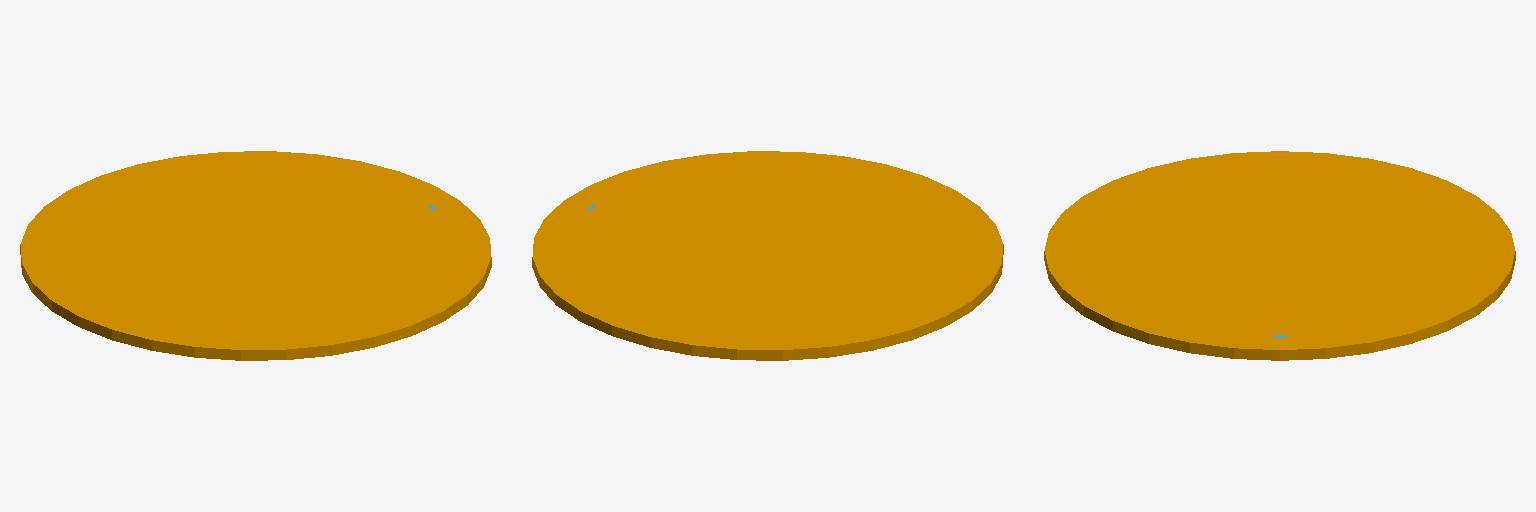
URDF robot description (plate0.urdf):
<?xml version="1.0" ?>
<robot name="plate0.urdf">
  <link name="baseLink">
    <contact>
      <lateral_friction value="200.0"/>
      <inertia_scaling value="3.0"/>
    </contact>
    <inertial>
      <origin rpy="0 0 0" xyz="0 0 0"/>
      <mass value=".5"/>
      <inertia ixx="1" ixy="0" ixz="0" iyy="1" iyz="0" izz="1"/>
    </inertial>
    <visual>
      <origin rpy="0 0 0" xyz="0 0 0"/>
      <geometry>
        <cylinder radius="0.2" length="0.01"/>
      </geometry>
    </visual>
    <collision>
      <origin rpy="0 0 0" xyz="0 0 0"/>
      <geometry>
        <cylinder radius="0.2" length="0.01"/>
      </geometry>
    </collision>

    <visual>
      <origin rpy="0 0 0" xyz="0 0 -0.01"/>
      <geometry>
        <cylinder radius="0.1" length="0.01"/>
      </geometry>
    </visual>
    <collision>
      <origin rpy="0 0 0" xyz="0 0 -0.01"/>
      <geometry>
        <cylinder radius="0.1" length="0.01"/>
      </geometry>
    </collision>

  </link>
  <link name="grasp">
    <inertial>
      <origin rpy="0 0 0" xyz="0 0 0"/>
      <mass value="0"/>
      <inertia ixx="1" ixy="0" ixz="0" iyy="1" iyz="0" izz="1"/>
    </inertial>
    <visual>
      <origin rpy="0 0 0" xyz="0 0 0"/>
      <geometry>
        <box size="0.01 0.01 0.01"/>
      </geometry>
    </visual>
  </link>
  <joint name="base2grasp" type="fixed">
    <origin rpy="0 1.57 0" xyz="0.17 0 0"/>
    <parent link="baseLink"/>
    <child link="grasp"/>
  </joint>
</robot>

--- What the picture shows (computed from the rendered views, not written in the file) ---
The picture shows the robot from 3 angles, left to right: view 1: azimuth 30°, elevation 25°; view 2: azimuth 150°, elevation 25°; view 3: azimuth 270°, elevation 25°; orthographic projection.
Model plate0.urdf with 2 links and 1 joints (1 fixed), rooted at baseLink, posed all joints at 0.
Links seen in each view (by area): view 1: baseLink; view 2: baseLink; view 3: baseLink.
Link boxes in pixels (x1=…): baseLink: x1=20, y1=151, x2=491, y2=360; baseLink: x1=532, y1=151, x2=1003, y2=360; baseLink: x1=1044, y1=151, x2=1515, y2=360.
Bounding box of the posed robot: 0.4 × 0.4 × 0.02 m (x, y, z).
Geometry: primitives only (box / cylinder / sphere), no mesh files.